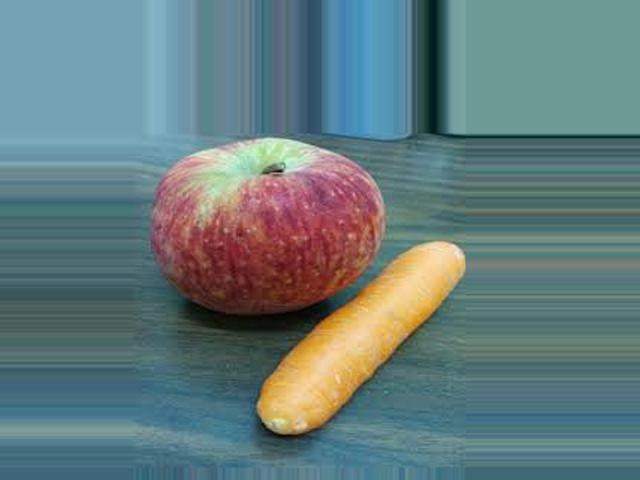carrot: (229, 228, 464, 441)
